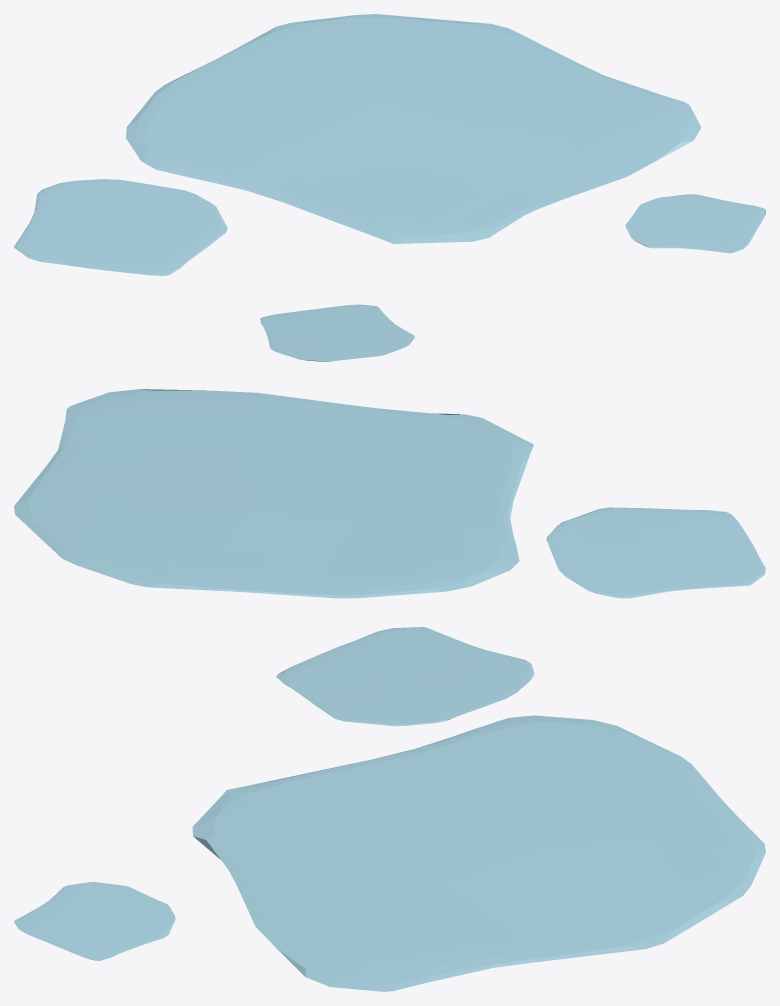
File: Gota.fbx
The picture shows the model from 3 angles, top to bottom: view 1: azimuth 30°, elevation 25°; view 2: azimuth 150°, elevation 25°; view 3: azimuth 270°, elevation 25°; orthographic projection. The views are drawn at different scales.
Visible parts, largest first — view 1: Gota; view 2: Gota; view 3: Gota.
Part boxes in pixels (x1=…): Gota: x1=14, y1=14, x2=765, y2=275; Gota: x1=14, y1=304, x2=765, y2=598; Gota: x1=14, y1=627, x2=765, y2=991.
Size of the model in its own units: 178 by 4.5 by 158.
